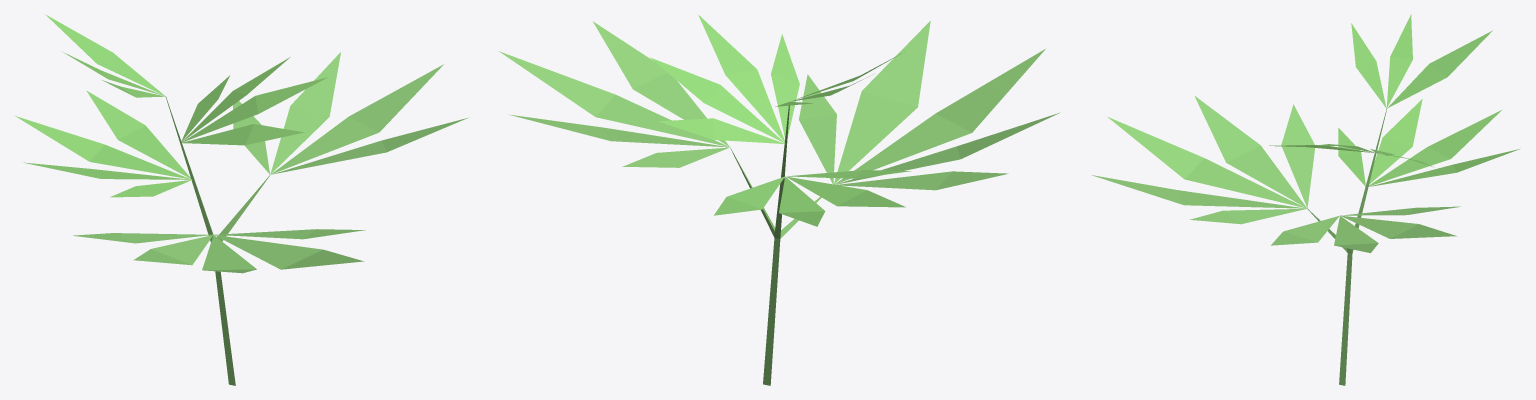
Rendered from Plant_i_OneS_08.fbx.
The picture shows the model from 3 angles, left to right: view 1: azimuth 30°, elevation 25°; view 2: azimuth 150°, elevation 25°; view 3: azimuth 270°, elevation 25°; orthographic projection. The views are drawn at different scales.
Parts seen in each view (by area): view 1: Plant_i_OneS_08; view 2: Plant_i_OneS_08; view 3: Plant_i_OneS_08.
Part boxes in pixels (left/top/right/bottom): Plant_i_OneS_08: left=15, top=14, right=468, bottom=385; Plant_i_OneS_08: left=498, top=14, right=1060, bottom=385; Plant_i_OneS_08: left=1091, top=14, right=1520, bottom=385.
Size of the model in its own units: 53.71 by 41.94 by 52.94.
